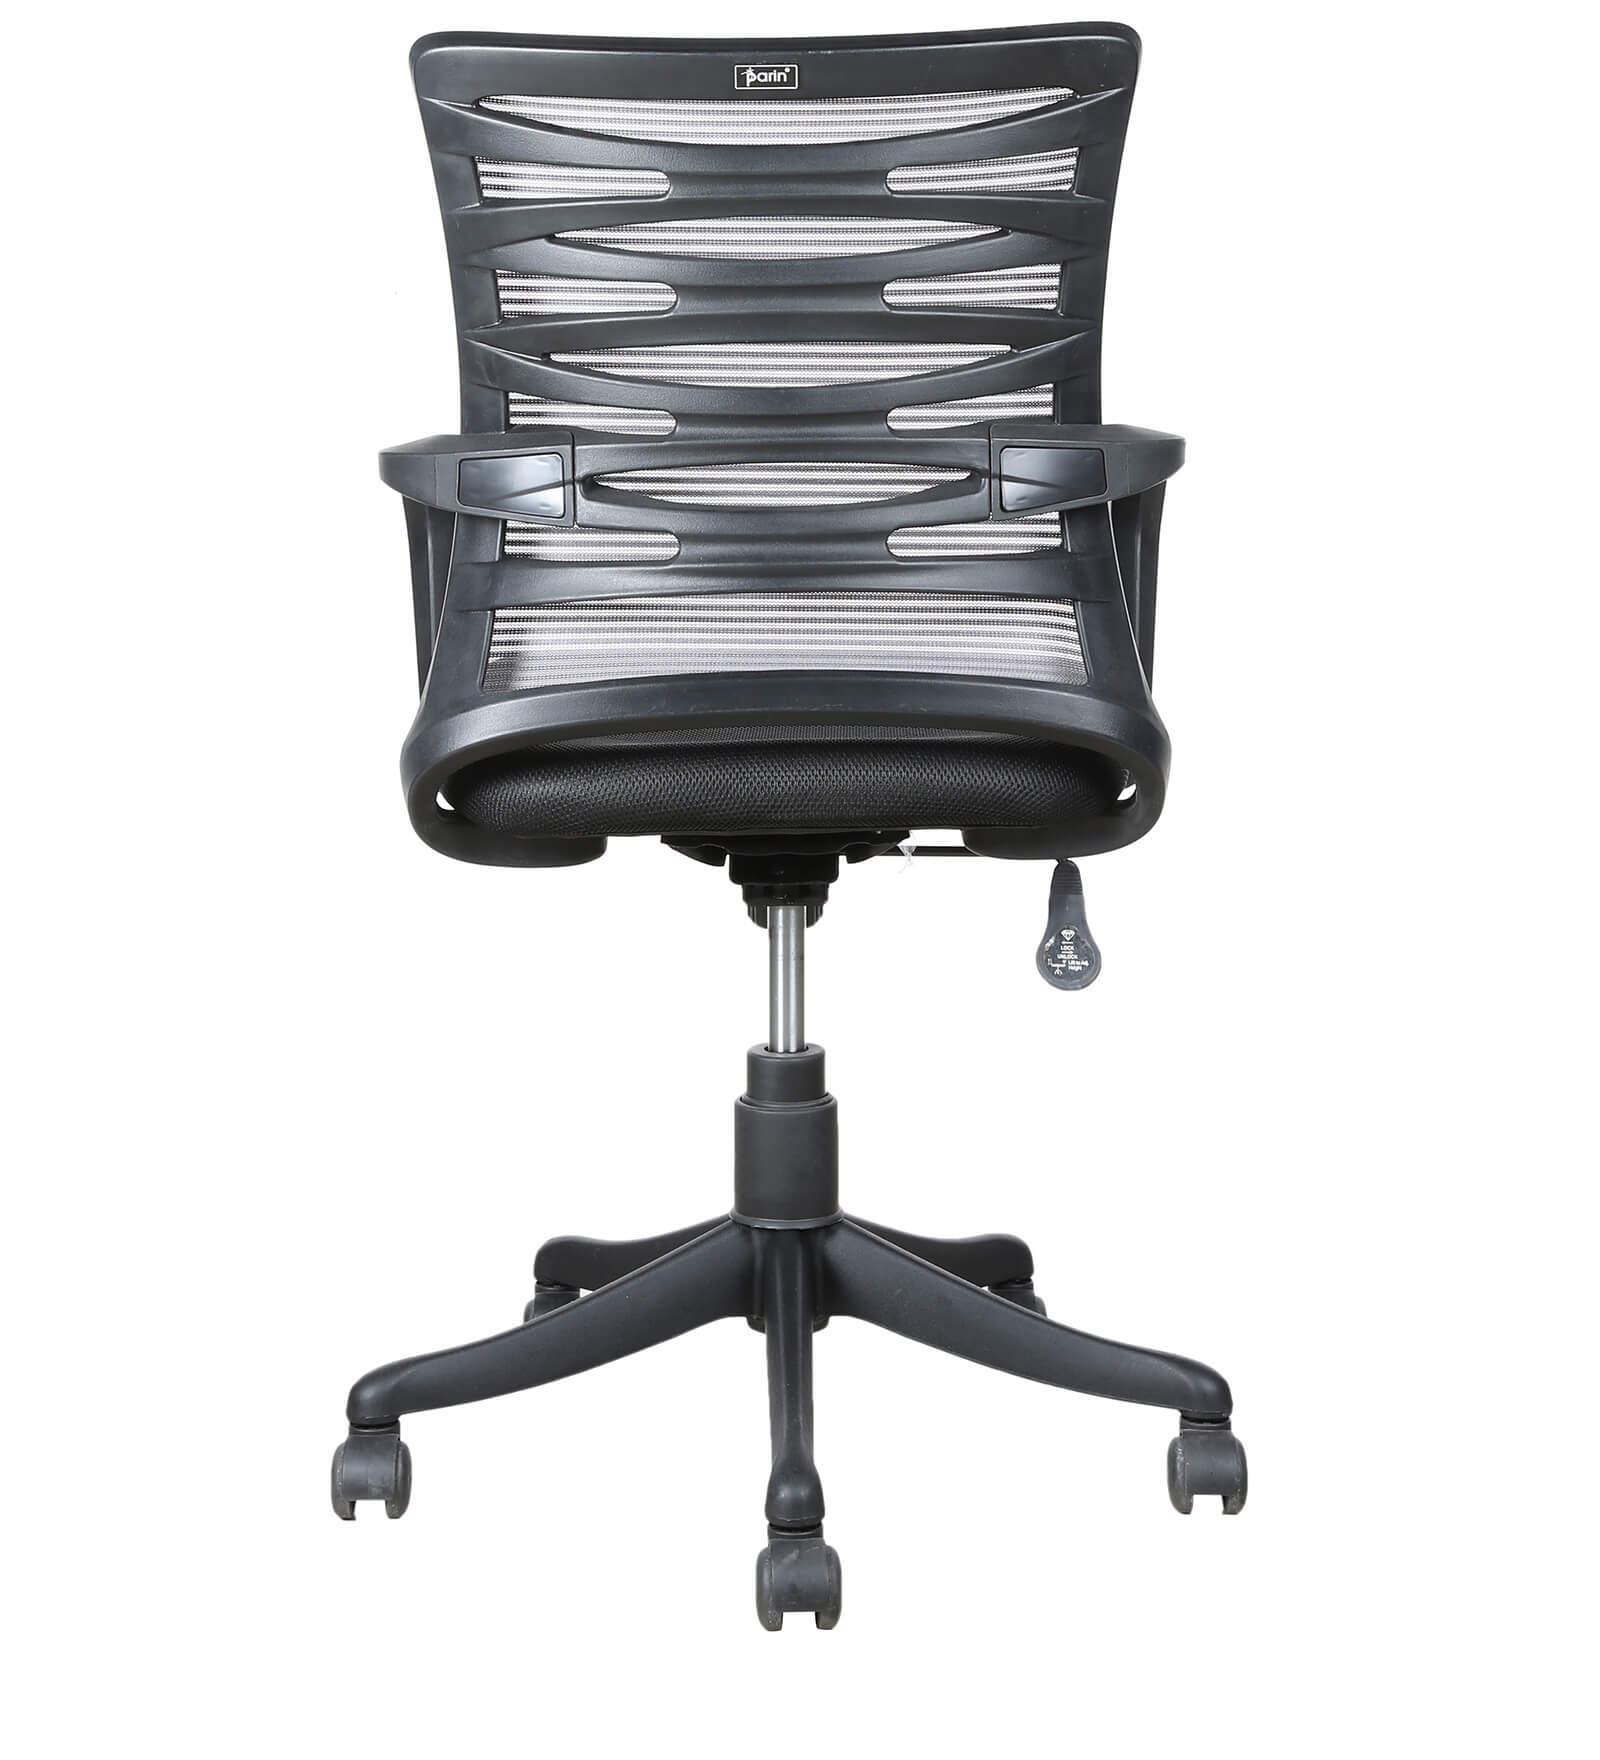Astec Ergonomic Chair in Grey Colour by Parin: (317, 9, 1306, 1627)
